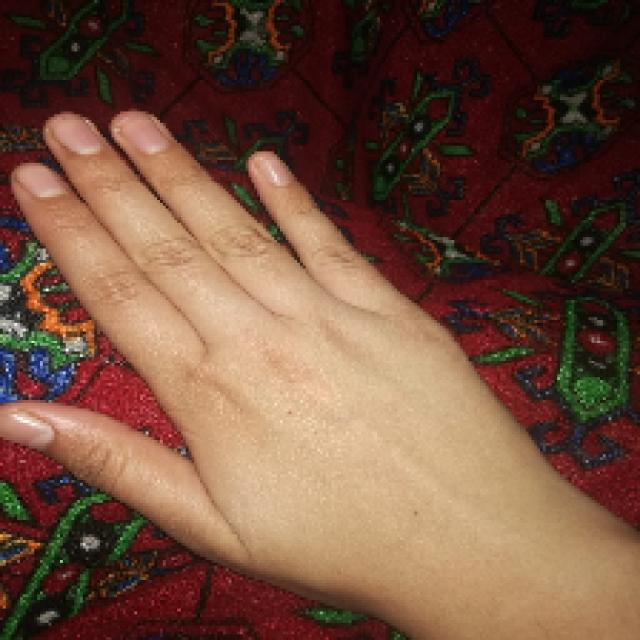Nail: (0, 405, 55, 451), (14, 164, 70, 199), (55, 115, 101, 155), (124, 114, 169, 153), (254, 152, 292, 186)
